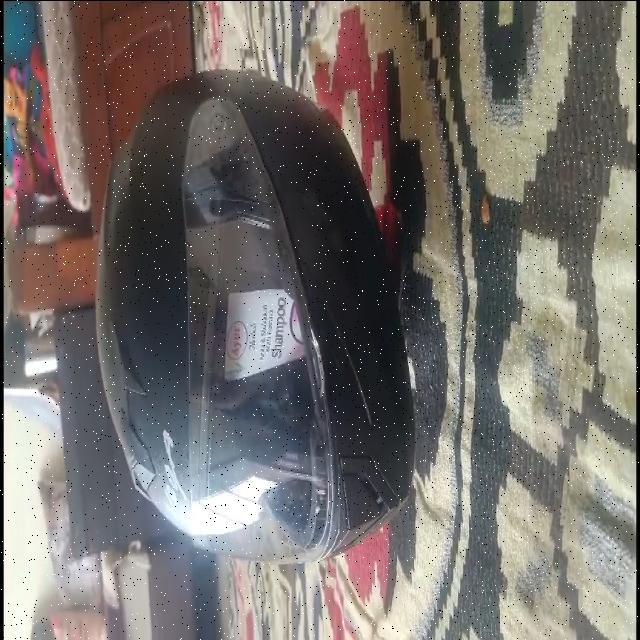Helmet: (94, 68, 407, 563)
